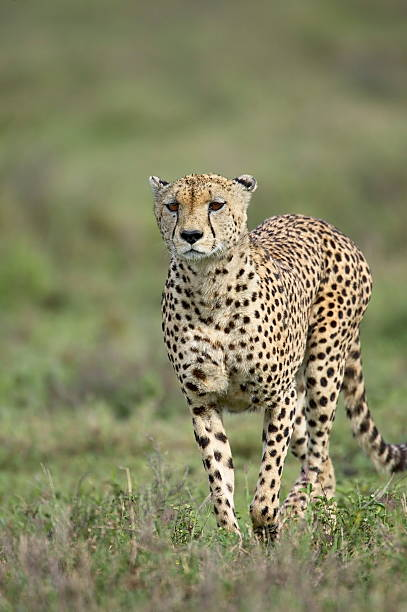cheetah: (138, 151, 277, 267)
